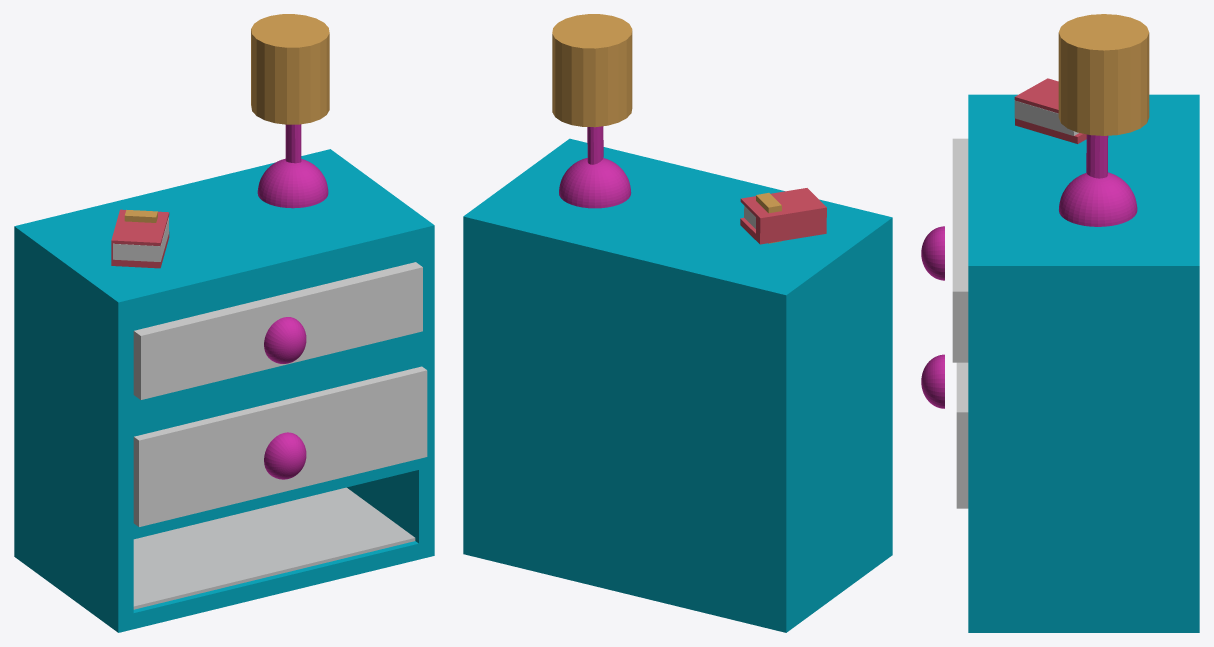
Rendered from nightstand.glb.
3 views of the same model, side by side, from view 1: azimuth 30°, elevation 25°; view 2: azimuth 150°, elevation 25°; view 3: azimuth 270°, elevation 25° (orthographic). The views are drawn at different scales.
Visible parts, largest first — view 1: Mesh_Mesh_head_geo.001_lambert2SG.001; view 2: Mesh_Mesh_head_geo.001_lambert2SG.001; view 3: Mesh_Mesh_head_geo.001_lambert2SG.001.
Boxes of the visible parts, x1=… form: Mesh_Mesh_head_geo.001_lambert2SG.001: x1=14, y1=14, x2=434, y2=632; Mesh_Mesh_head_geo.001_lambert2SG.001: x1=463, y1=14, x2=892, y2=632; Mesh_Mesh_head_geo.001_lambert2SG.001: x1=921, y1=14, x2=1199, y2=632.
Bounding box in the file's own units: 103 × 156 × 70.86.
